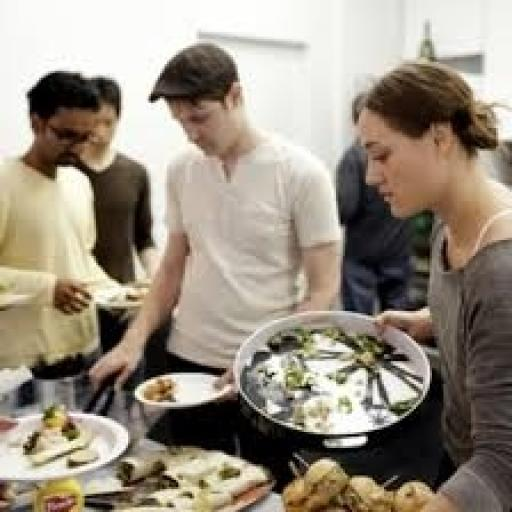eating: (0, 36, 510, 510)
